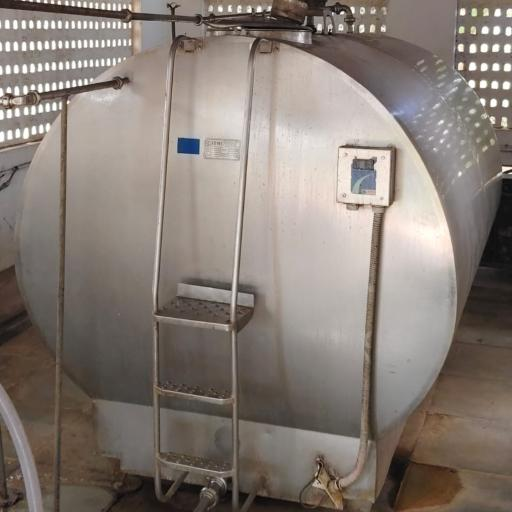silo: (15, 16, 504, 497)
